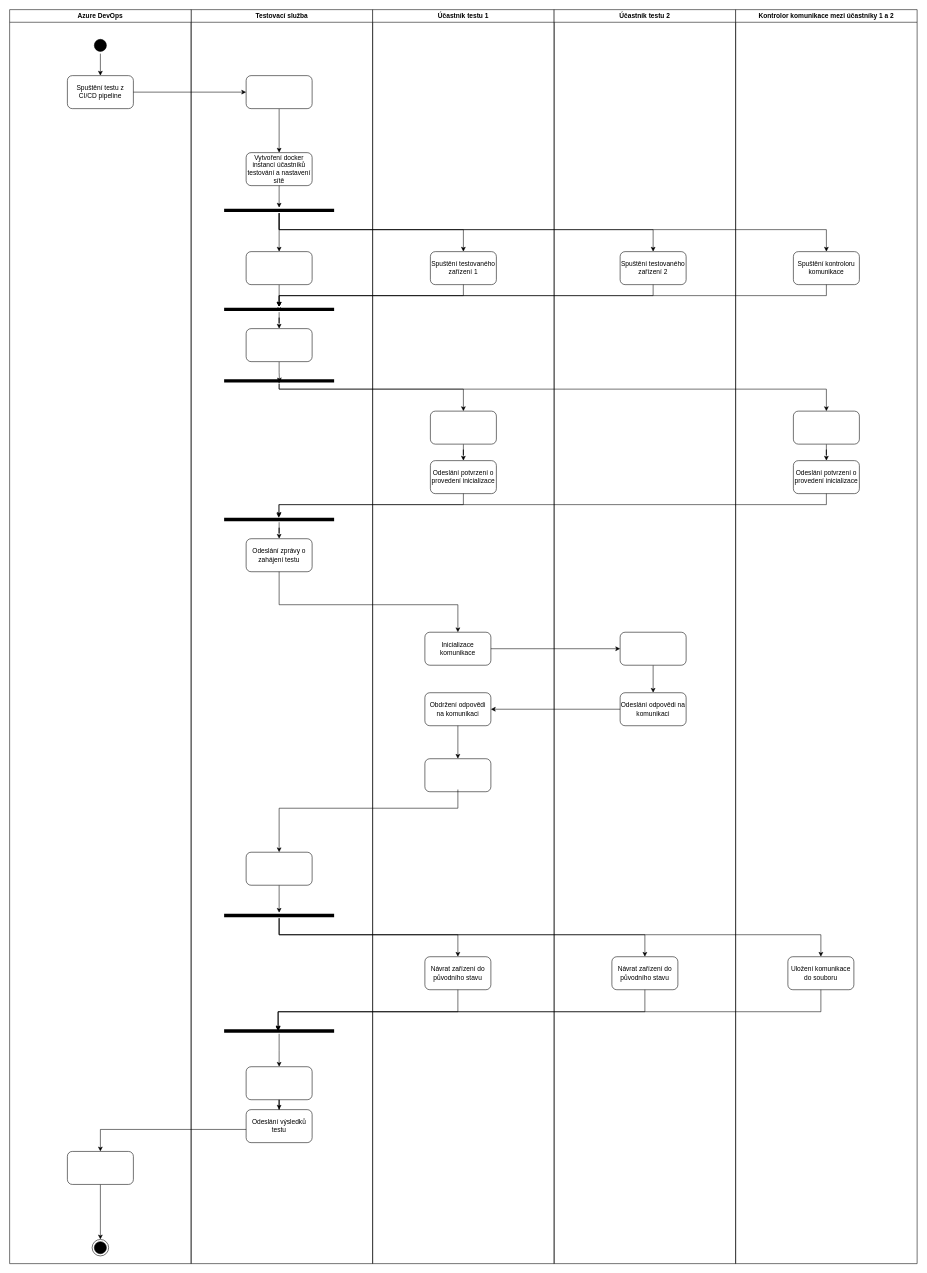
The diagram is 927 pixels wide and 1273 high, and some of its shapes have lost their labels. The centre of each missing label's shape, as x and y in pixels:
Inicializace testu: point (463, 427)
Obdržení komunikace: point (653, 648)
Obdržení výsledů testu a jejich publikace: point (100, 1167)
Odeslání zprávy o inicializaci testu: point (279, 345)
Odeslání zprávy o ukončení testu: point (279, 868)
Spuštění inicializace testování: point (279, 92)
Spuštění serveru testovací služby: point (279, 268)
Ukončení testování, zastavení všech spuštěných zařízení: point (279, 1083)
Vyhodnocení úspěšnosti a odeslání výsledku: point (457, 775)
Zahájení záznamu průchozí komunikace: point (826, 427)
